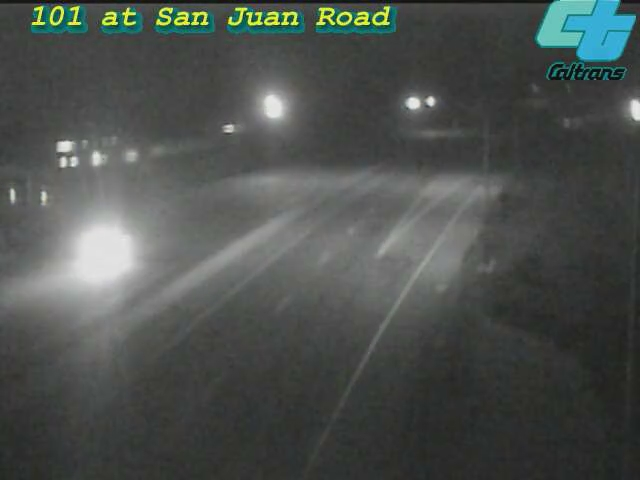vehicle: (71, 210, 151, 290), (609, 86, 640, 136)
